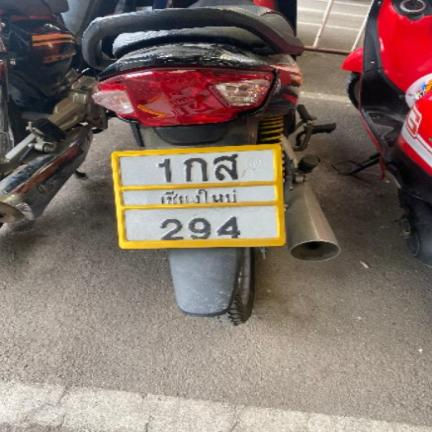1: (155, 156, 175, 182)
2: (156, 216, 185, 240)
4: (214, 214, 243, 238)
9: (186, 216, 212, 240)
A01: (181, 156, 210, 182)
A40: (211, 153, 240, 181)
CMI: (154, 188, 239, 204)
